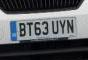3: (41, 20, 49, 35)
6: (34, 22, 42, 36)
B: (19, 22, 26, 37)
N: (66, 19, 75, 34)
T: (26, 21, 33, 36)
U: (51, 19, 59, 35)
Y: (59, 19, 66, 34)
